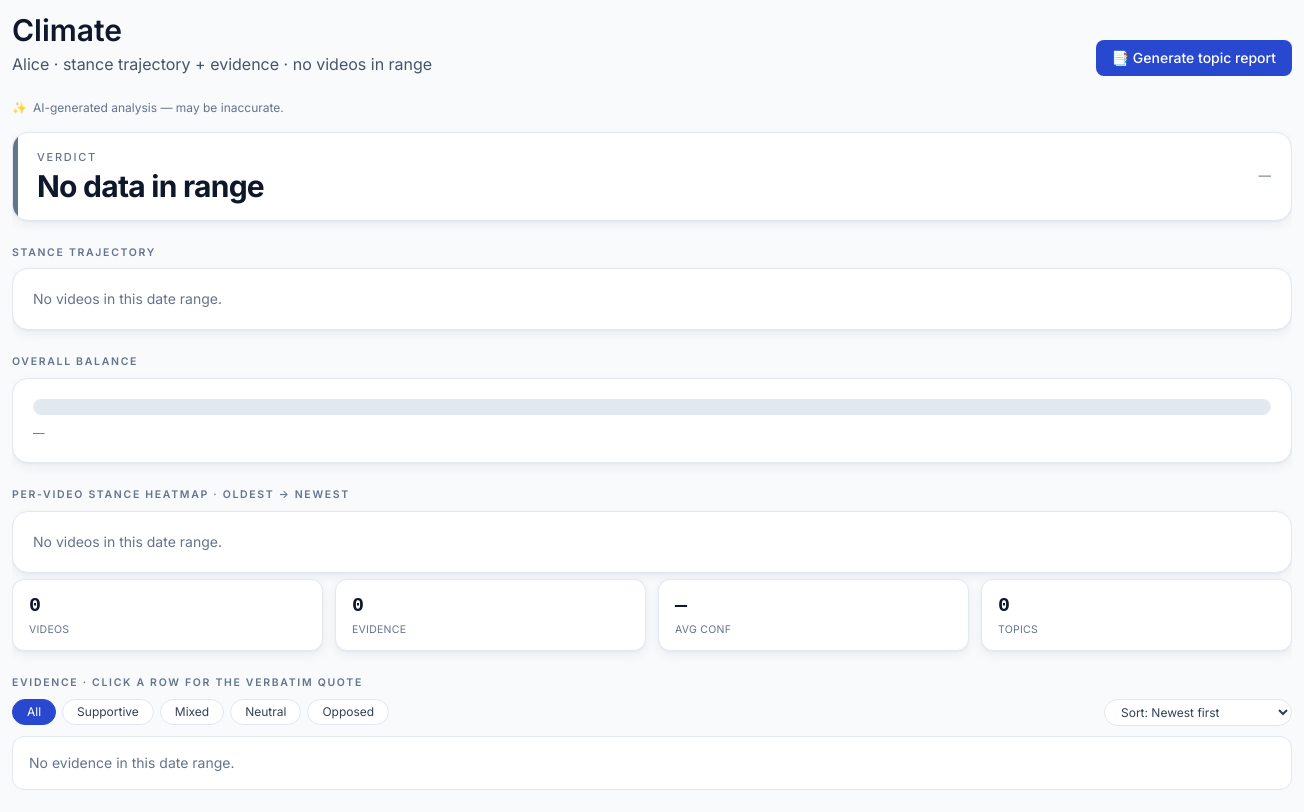
Test: TopicAnalysisPage generate report flow › surfaces a failed background topic report job and restores the CTA
Expected: the heading "Climate" is shown, left=12, top=12, right=122, bottom=48
What coordinates should you click on to do the following:
click the button "📑 Generate topic report"
I would click on:
 (1194, 58)
Its box is left=1096, top=40, right=1292, bottom=76.
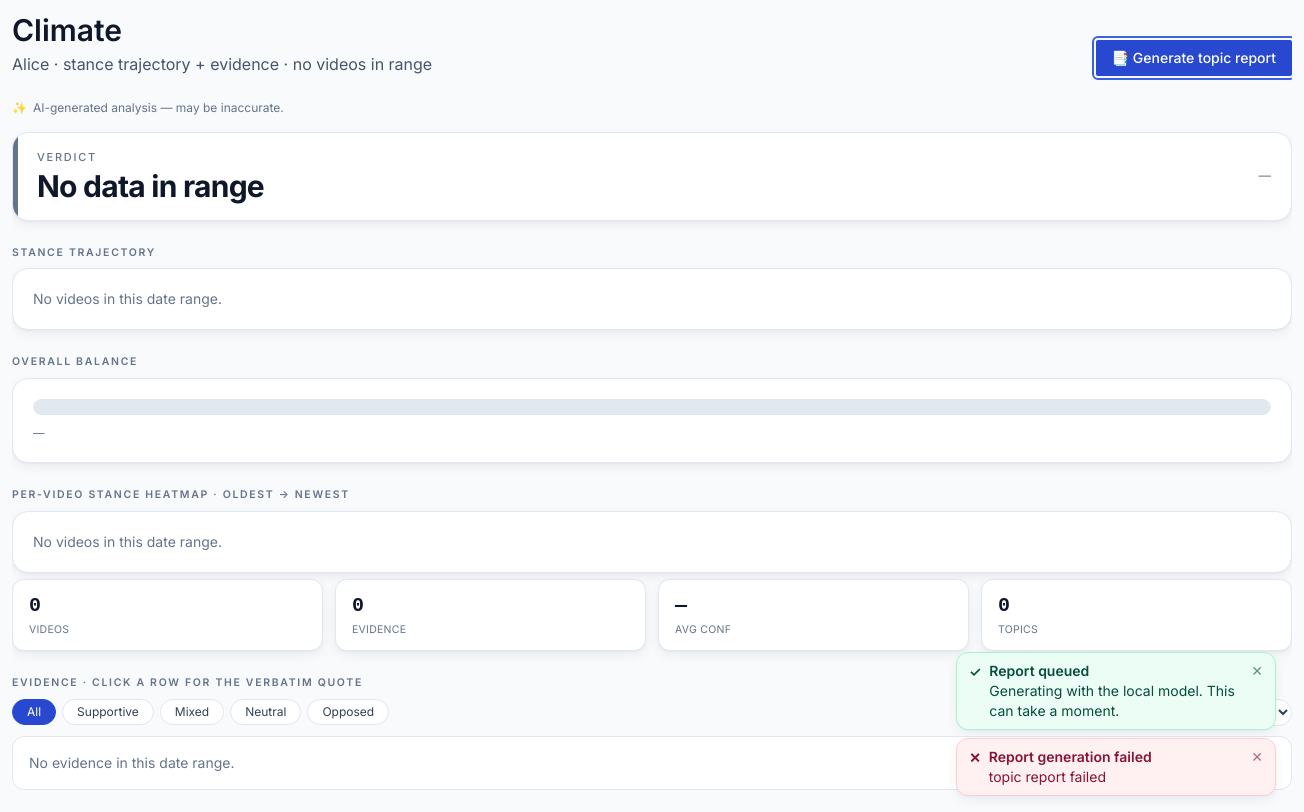
Expected: the text "topic report failed" is shown, left=989, top=768, right=1106, bottom=785
